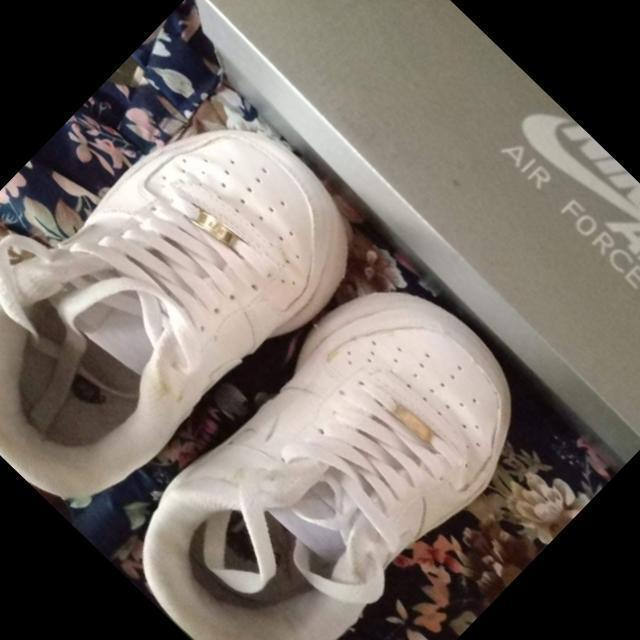nike fake air force: (0, 53, 391, 549), (97, 245, 564, 640)
